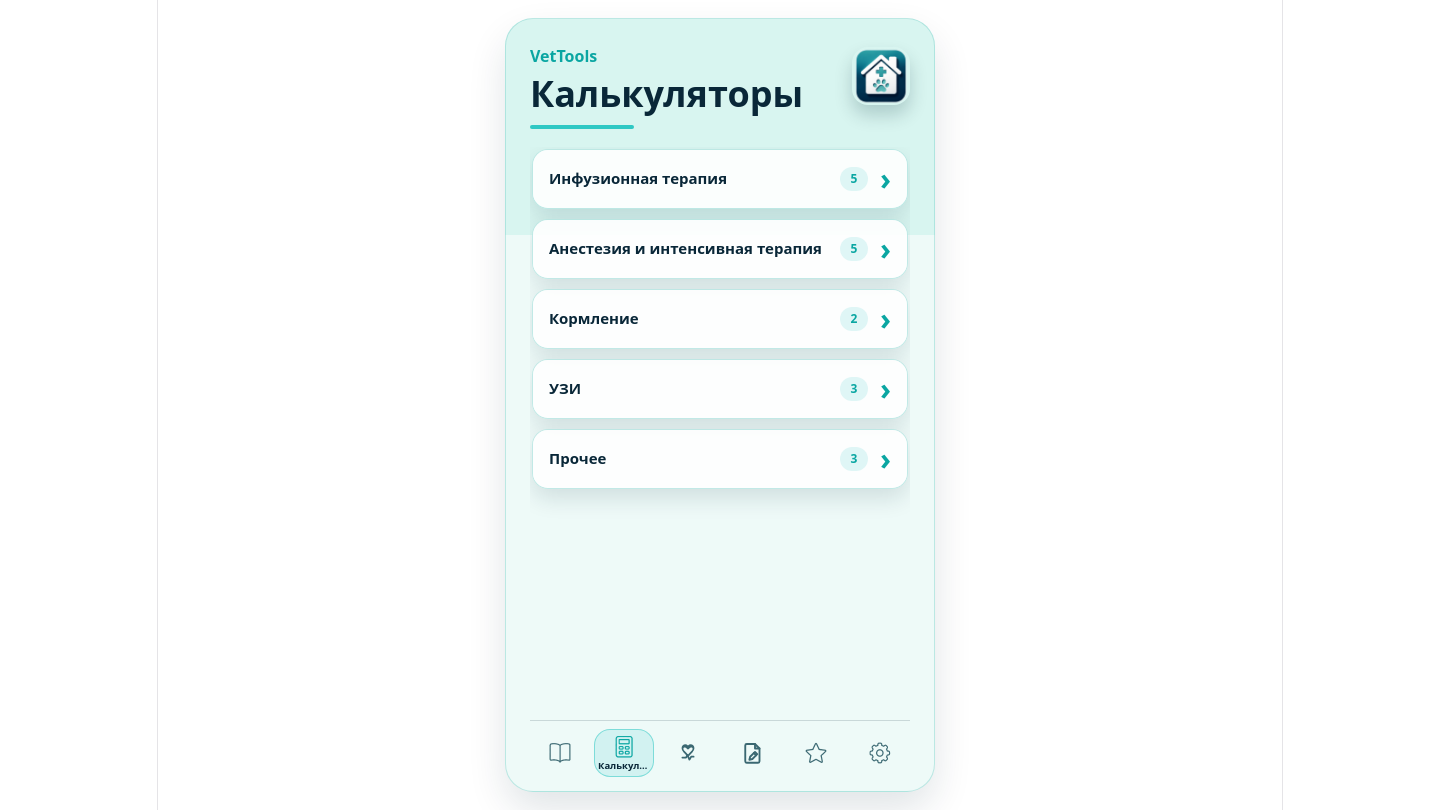
Test: App routes › adds and removes a calculator from favorites
Click the button "Инфузионная терапия 5 ›": x=720, y=179 [533,150,907,208]
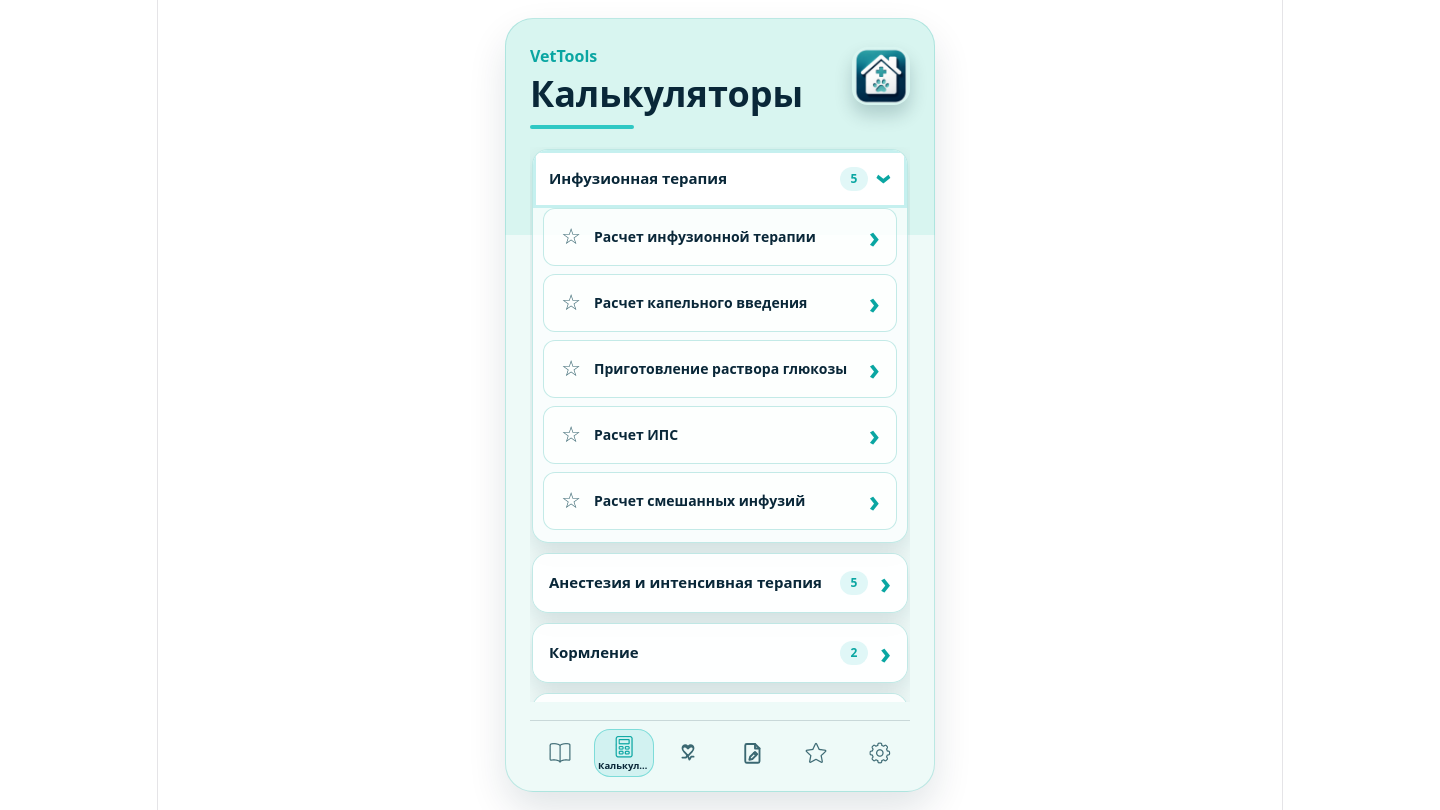
expect the button named "Добавить в избранное: Расчет ИПС" reads "☆": met
Click the button named "Добавить в избранное: Расчет ИПС": x=571, y=435 [554,418,588,452]
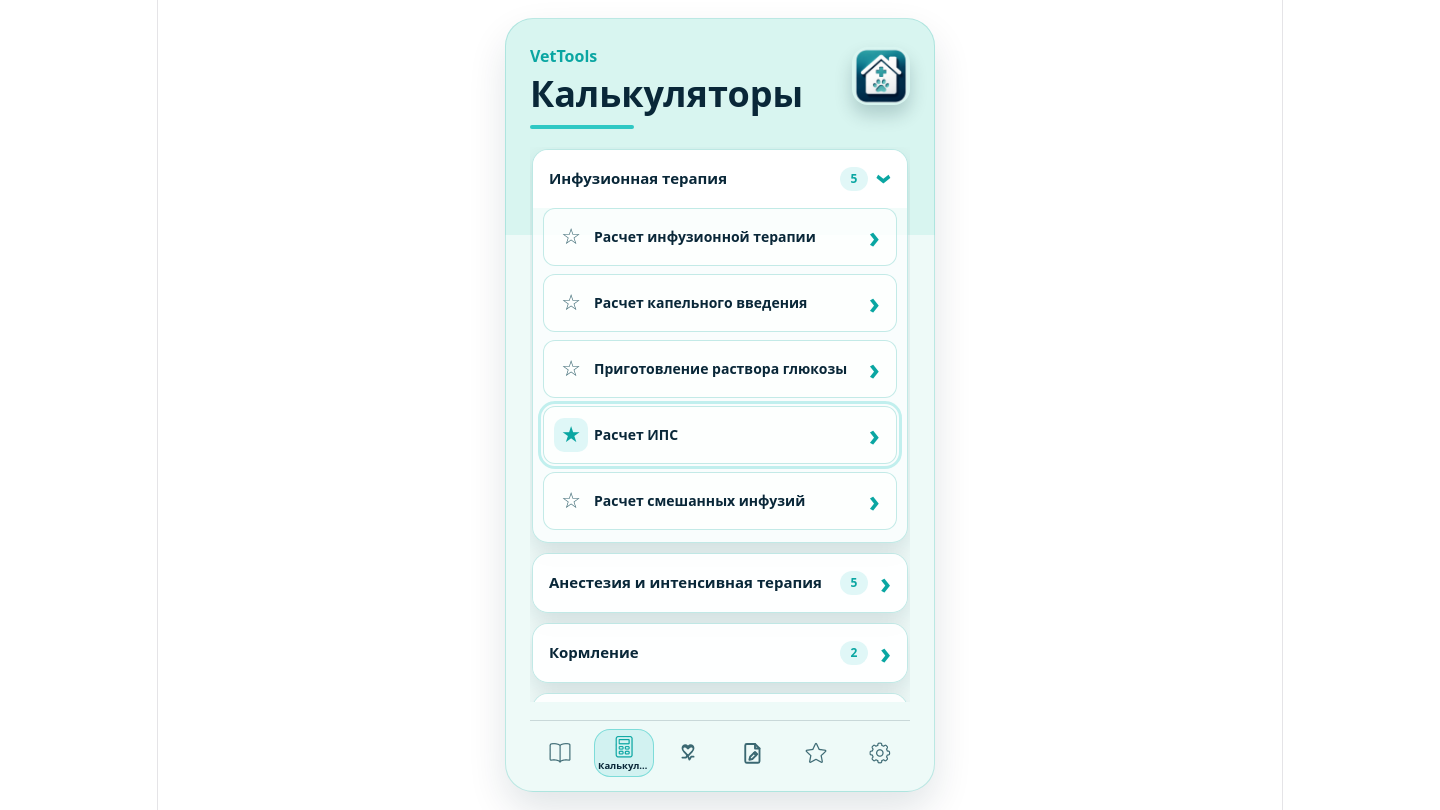
expect the button named "Убрать из избранного: Расчет ИПС" reads "★": met, box [554,418,588,452]
Click the link named "Избранное": x=816, y=753 [804,741,828,765]
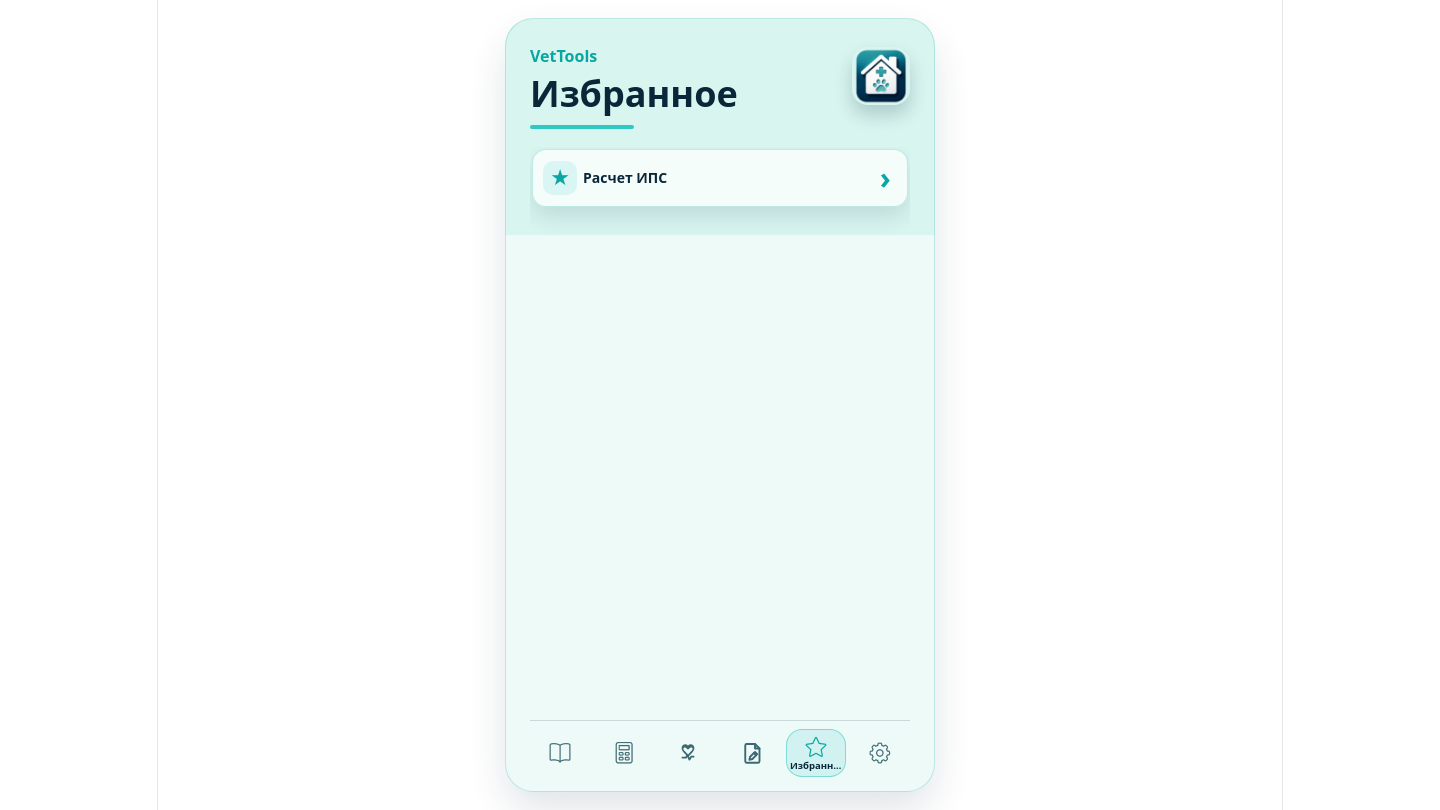
expect the link "Расчет ИПС ›" is shown: met, box [583,156,899,200]
expect the heading "Избранное" is shown: met, box [530,76,738,129]
Click the button named "Убрать из избранного: Расчет ИПС": x=560, y=178 [543,161,577,195]
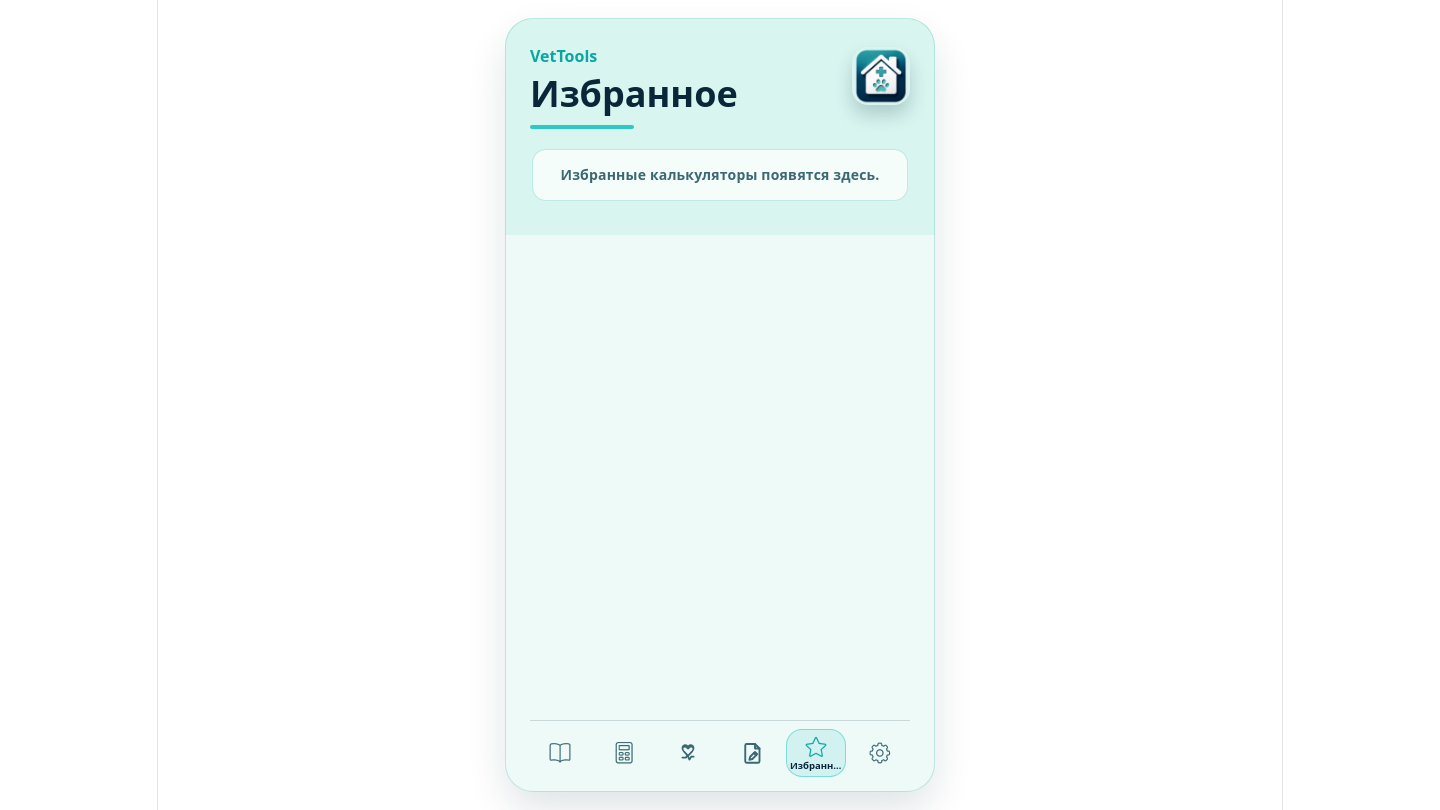
expect the text "Избранные калькуляторы появятся здесь." is shown: met, box [532,149,908,201]
